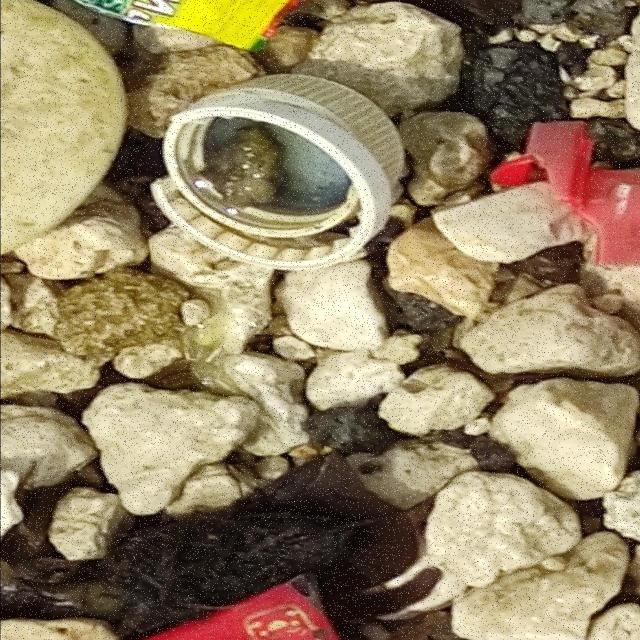plastic_waste: (148, 73, 408, 273), (72, 1, 314, 57)
